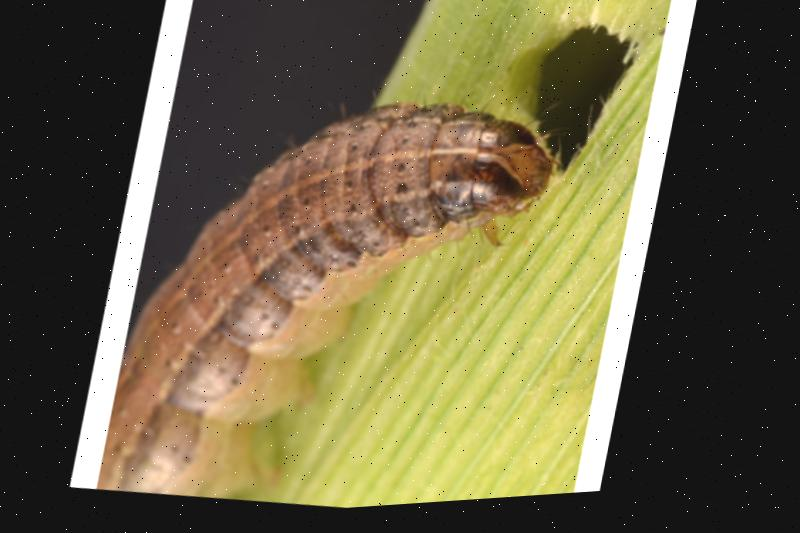fall-armyworm: (103, 106, 571, 505)
